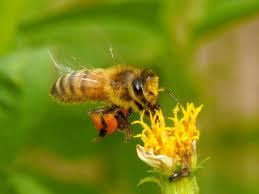Apis-mellifera-scutellata: (35, 40, 181, 144)
